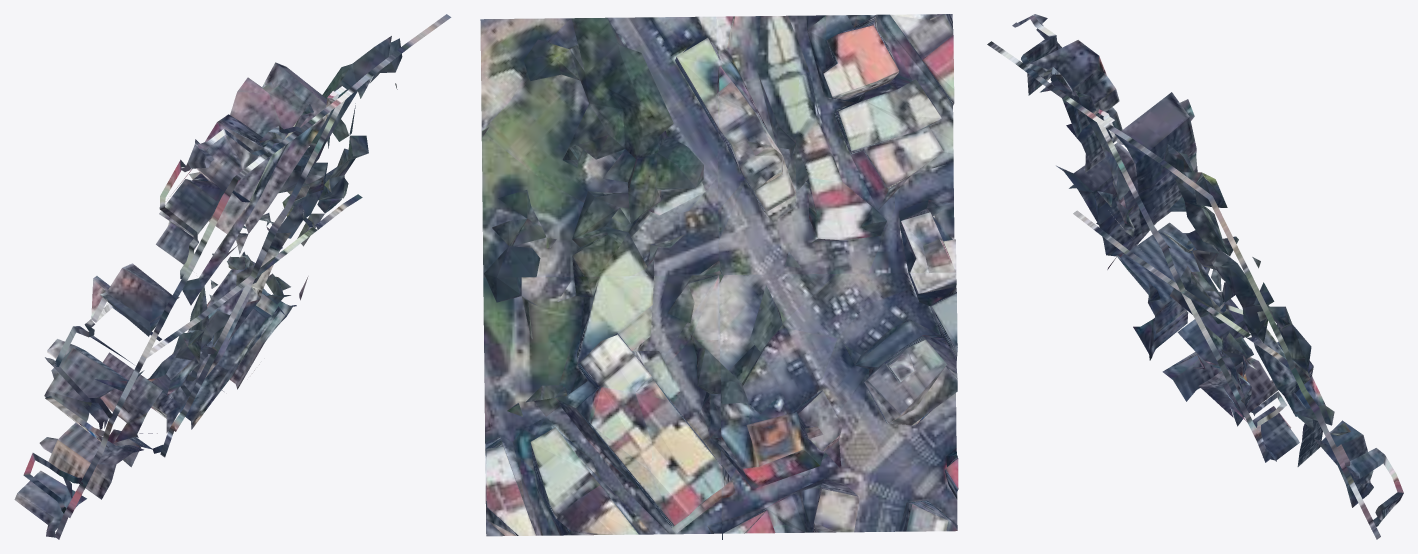
3 views of the same model, side by side, from view 1: azimuth 30°, elevation 25°; view 2: azimuth 150°, elevation 25°; view 3: azimuth 270°, elevation 25° (orthographic). The views are drawn at different scales.
Bounding box in the file's own units: 159 × 146 × 136.
1 material, 1 textured.
